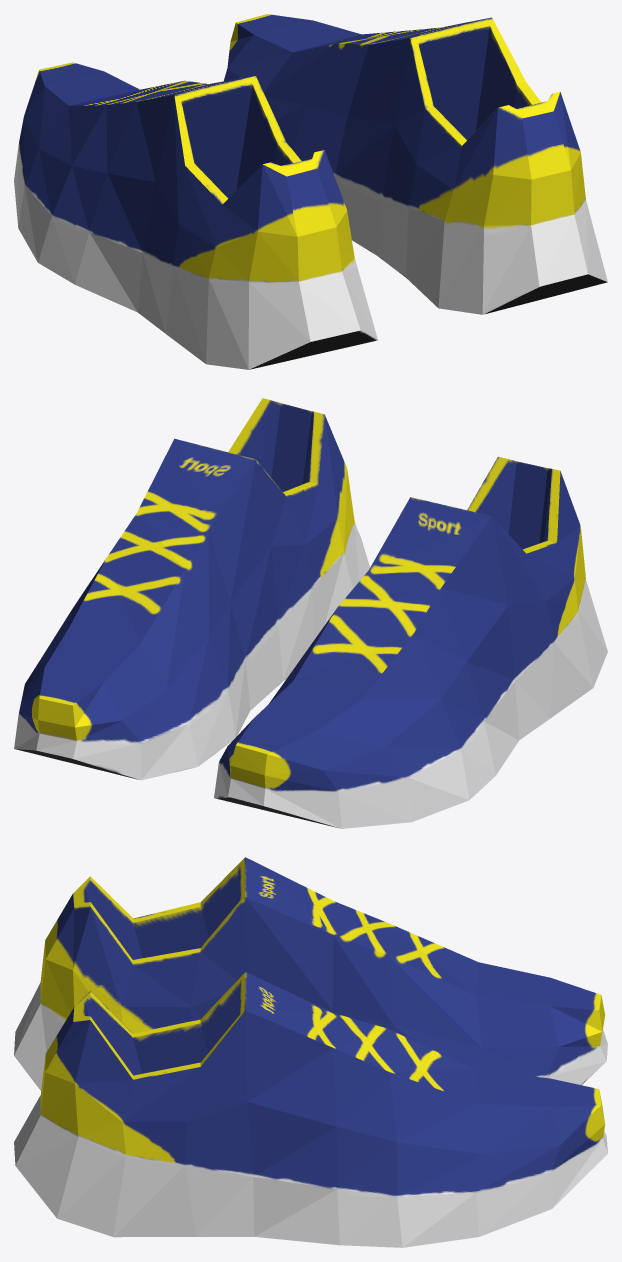
The model's file is Zapatillas.FBX.
The picture shows the model from 3 angles, top to bottom: view 1: azimuth 30°, elevation 25°; view 2: azimuth 150°, elevation 25°; view 3: azimuth 270°, elevation 25°; orthographic projection.
Visible parts, largest first — view 1: Cube; view 2: Cube; view 3: Cube.
Part boxes in pixels (left/top/right/bottom): Cube: left=14, top=14, right=607, bottom=369; Cube: left=14, top=398, right=607, bottom=828; Cube: left=14, top=857, right=607, bottom=1247.
Bounding box in the file's own units: 122 × 57.76 × 147.
1 material, 1 textured.
